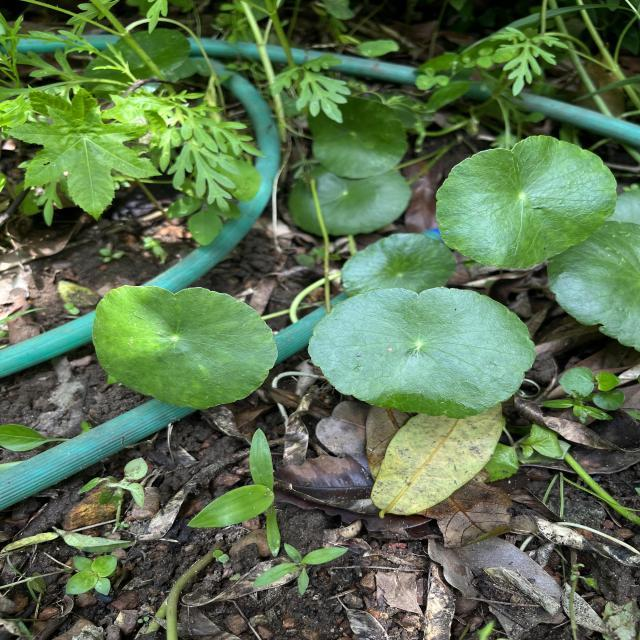Bacopa monnieri: (306, 285, 538, 420), (432, 133, 618, 270), (90, 284, 280, 412), (544, 218, 640, 354), (340, 231, 457, 299)
